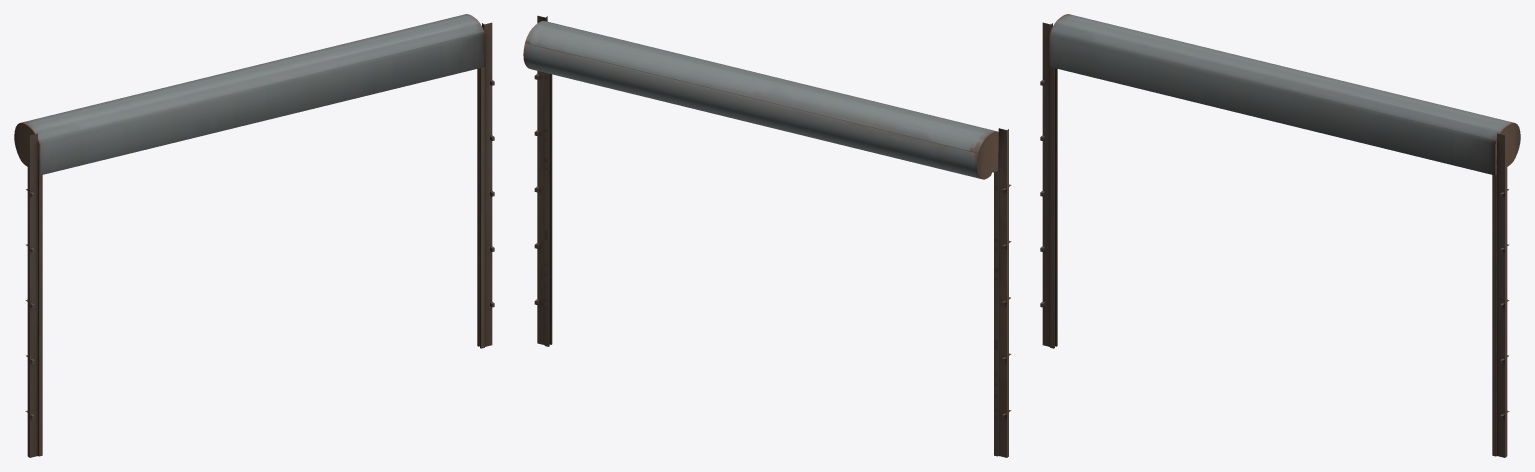
The picture shows the model from 3 angles, left to right: view 1: azimuth 30°, elevation 25°; view 2: azimuth 150°, elevation 25°; view 3: azimuth 330°, elevation 25°; orthographic projection.
Parts seen in each view (by area): view 1: body0_model0_lod0_mesh0; view 2: body0_model0_lod0_mesh0; view 3: body0_model0_lod0_mesh0.
Part boxes in pixels (x1=…): body0_model0_lod0_mesh0: x1=14, y1=14, x2=494, y2=457; body0_model0_lod0_mesh0: x1=523, y1=15, x2=1011, y2=457; body0_model0_lod0_mesh0: x1=1040, y1=14, x2=1520, y2=457.
Bounding box in the file's own units: 192 × 128 × 18.89.
1 material, 1 textured.
